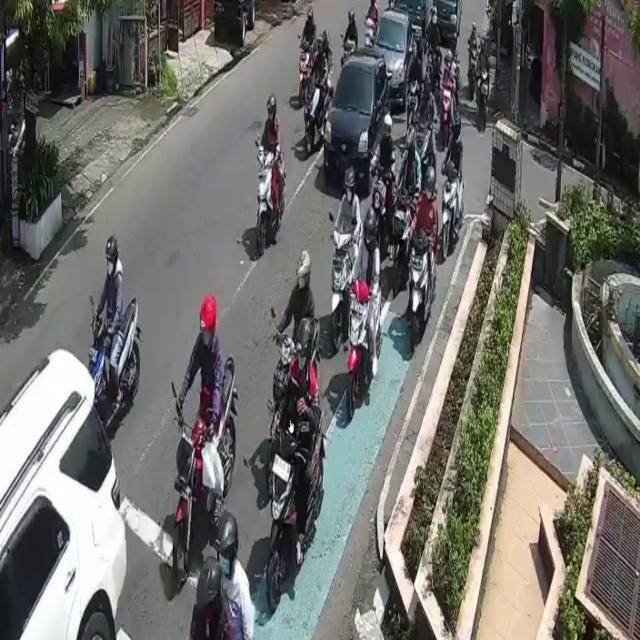car: (0, 348, 126, 639), (324, 50, 390, 187), (378, 8, 416, 106)
motorbike: (175, 356, 236, 592), (268, 405, 324, 617), (91, 295, 138, 427), (347, 277, 374, 415), (254, 146, 284, 255), (406, 233, 433, 354), (330, 230, 350, 353), (442, 163, 464, 264), (477, 64, 489, 134)
